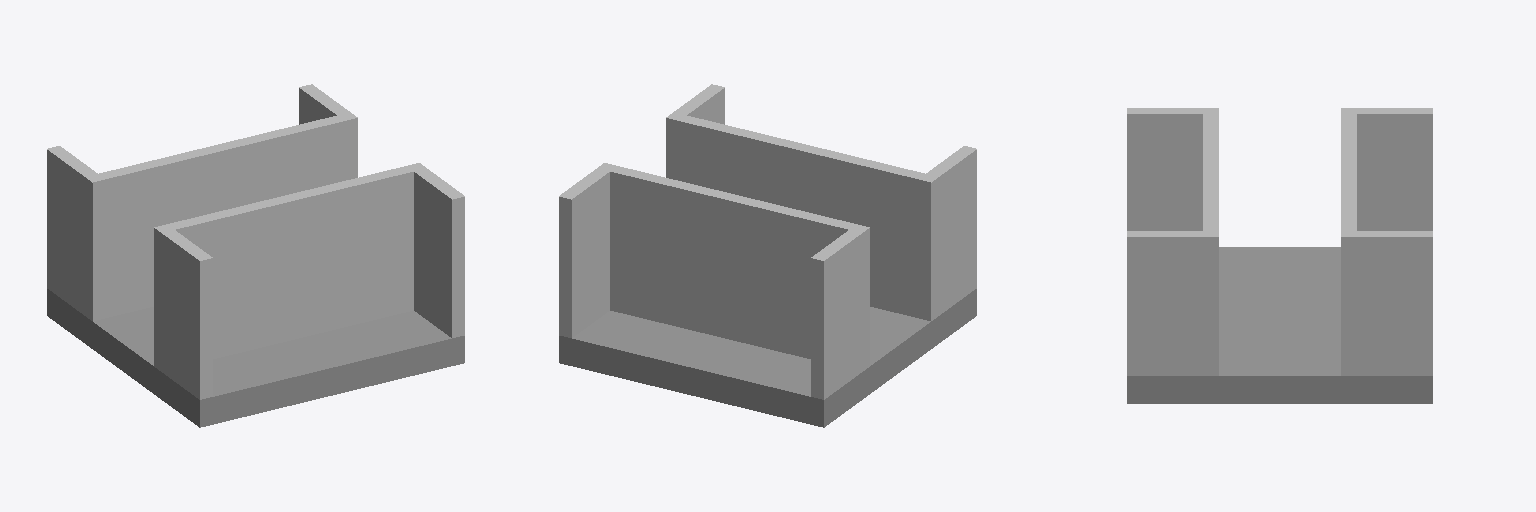
The model's file is hallway-thin_between-big-rooms_1.obj.
3 renders of one model, left to right at view 1: azimuth 30°, elevation 25°; view 2: azimuth 150°, elevation 25°; view 3: azimuth 270°, elevation 25°, orthographic.
Visible parts, largest first — view 1: Cube.002, Cube.001_Cube.006, Cube, Cube.005_Cube.004, Cube.004_Cube.003, Cube.003_Cube.001, Cube.006_Cube.005; view 2: Cube.001_Cube.006, Cube.002, Cube, Cube.006_Cube.005, Cube.003_Cube.001, Cube.004_Cube.003, Cube.005_Cube.004; view 3: Cube, Cube.006_Cube.005, Cube.005_Cube.004, Cube.004_Cube.003, Cube.003_Cube.001, Cube.001_Cube.006, Cube.002.
Part boxes in pixels (x1,y1,x2,y2): Cube.002: (154, 163, 425, 371); Cube.001_Cube.006: (85, 112, 357, 320); Cube: (47, 289, 464, 427); Cube.005_Cube.004: (414, 168, 464, 337); Cube.004_Cube.003: (162, 230, 212, 399); Cube.003_Cube.001: (47, 146, 97, 315); Cube.006_Cube.005: (299, 84, 349, 124); Cube.001_Cube.006: (598, 163, 869, 371); Cube.002: (666, 112, 938, 320); Cube: (559, 289, 976, 427); Cube.006_Cube.005: (559, 168, 609, 337); Cube.003_Cube.001: (811, 230, 861, 399); Cube.004_Cube.003: (926, 146, 976, 315); Cube.005_Cube.004: (674, 84, 724, 124); Cube: (1127, 247, 1432, 403); Cube.006_Cube.005: (1357, 231, 1432, 375); Cube.005_Cube.004: (1127, 231, 1202, 375); Cube.004_Cube.003: (1127, 108, 1202, 230); Cube.003_Cube.001: (1357, 108, 1432, 230); Cube.001_Cube.006: (1341, 108, 1356, 375); Cube.002: (1203, 108, 1218, 375).
Size of the model in its own units: 10 by 6 by 10.